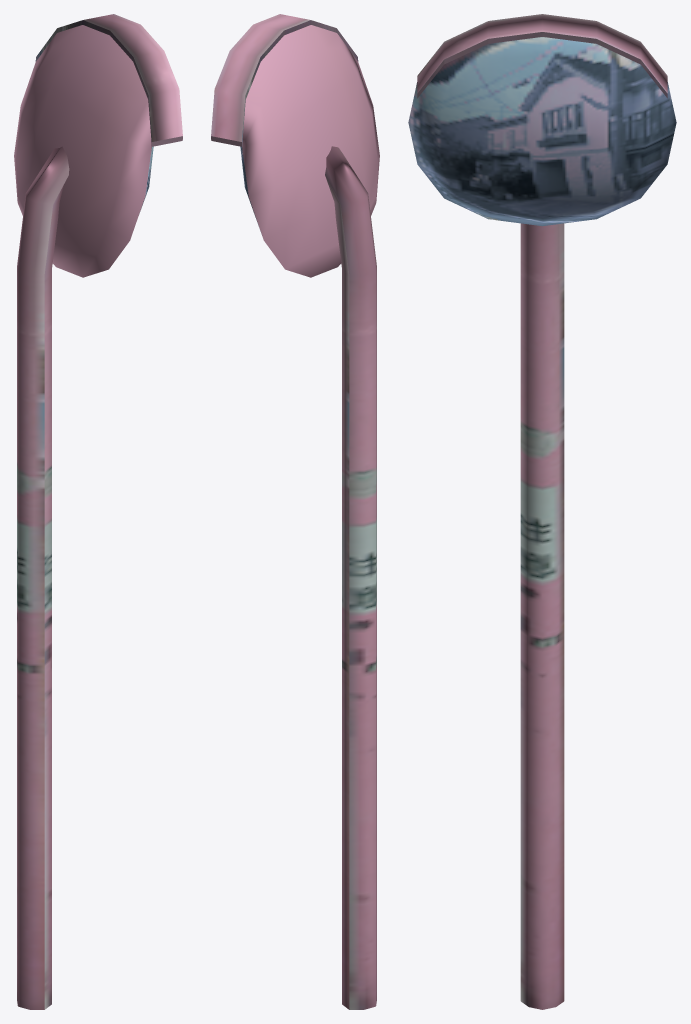
Rendered from StreetMirror.fbx.
3 views of the same model, side by side, from view 1: azimuth 30°, elevation 25°; view 2: azimuth 150°, elevation 25°; view 3: azimuth 270°, elevation 25° (orthographic). The views are drawn at different scales.
Visible parts, largest first — view 1: Pole; view 2: Pole; view 3: Pole.
Part boxes in pixels (x1,y1,x2,y2): Pole: (14,14,182,1009); Pole: (211,14,379,1009); Pole: (408,14,676,1009).
Bounding box in the file's own units: 89.17 × 661 × 156.
